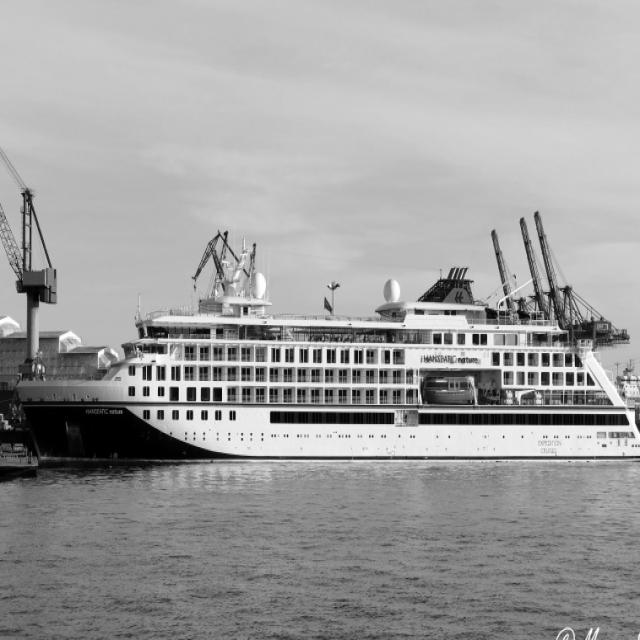cruises: (15, 238, 640, 474)
